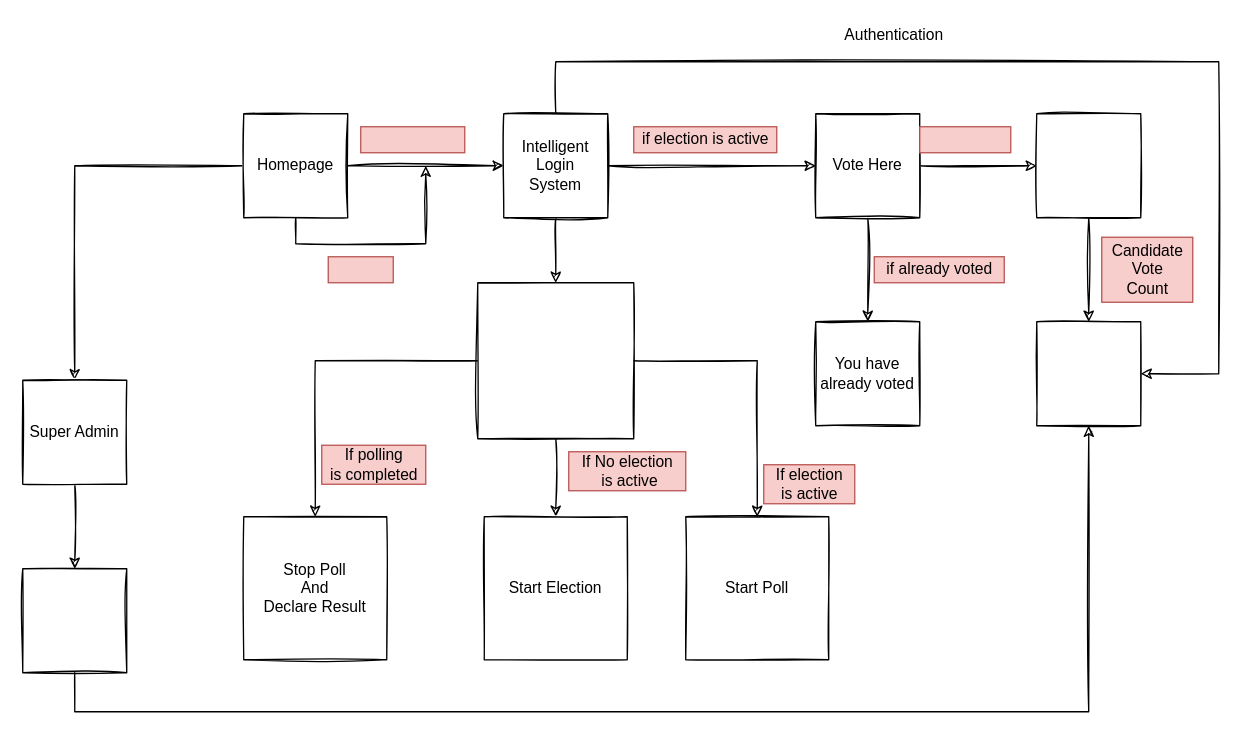
Image size: 1252x745. Some labels were removed from this diagram. Each missing label, with the centre of its shape:
Admin: (360,269)
Can Create Presentable Admin: (74,620)
Database: (1088,373)
Not voted: (964,139)
Presentable Admin View: (555,360)
Thank you: (1088,165)
Vote/register: (412,139)
